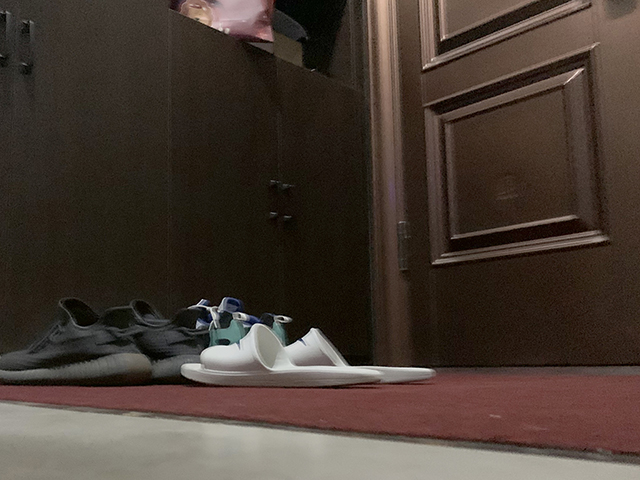cabinet: (1, 1, 370, 365)
carpet: (1, 371, 640, 459)
slippers: (177, 322, 377, 387), (289, 325, 436, 381)
